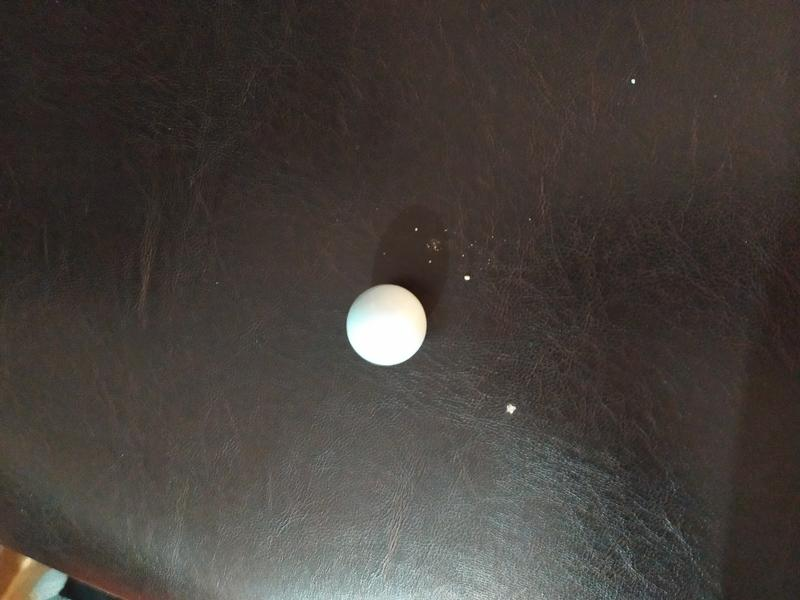Warning: (344, 282, 429, 368)
